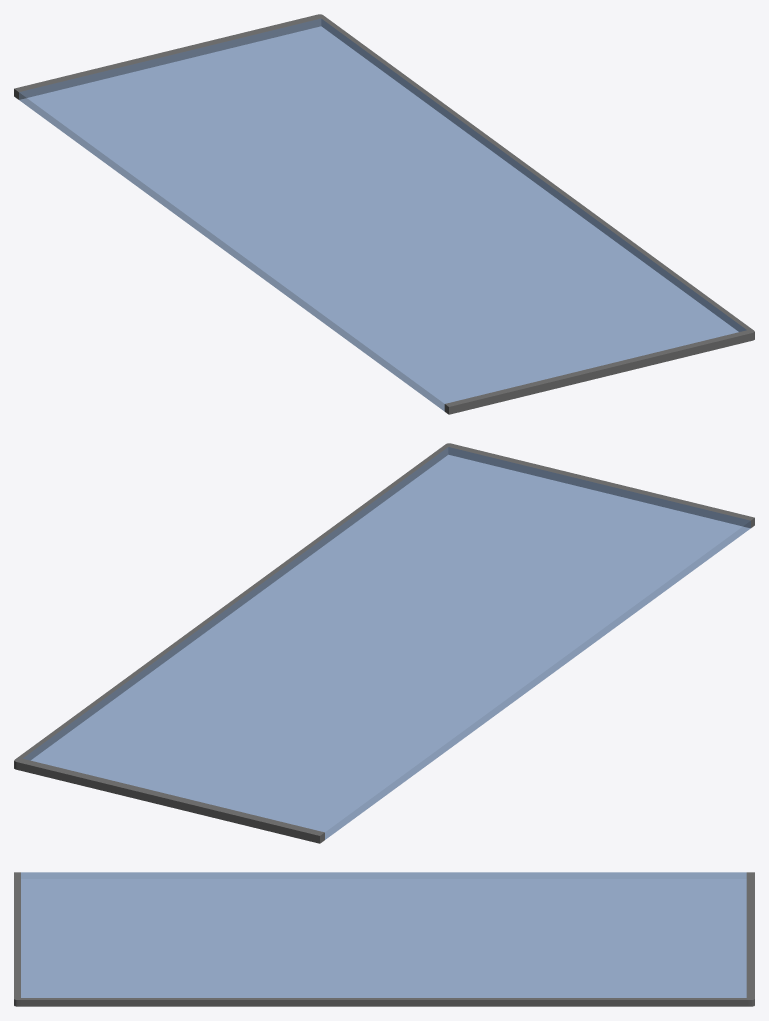
Rendered from Side_Display.fbx.
3 views of the same model, one above another, from view 1: azimuth 30°, elevation 25°; view 2: azimuth 150°, elevation 25°; view 3: azimuth 270°, elevation 25° (orthographic). The views are drawn at different scales.
Parts seen in each view (by area): view 1: Side_Display; view 2: Side_Display; view 3: Side_Display.
Part boxes in pixels (bbox=[...]): Side_Display: bbox=[14, 14, 754, 414]; Side_Display: bbox=[14, 443, 754, 843]; Side_Display: bbox=[14, 872, 754, 1006].
Bounding box in the file's own units: 8.25 × 0.2 × 20.22.
